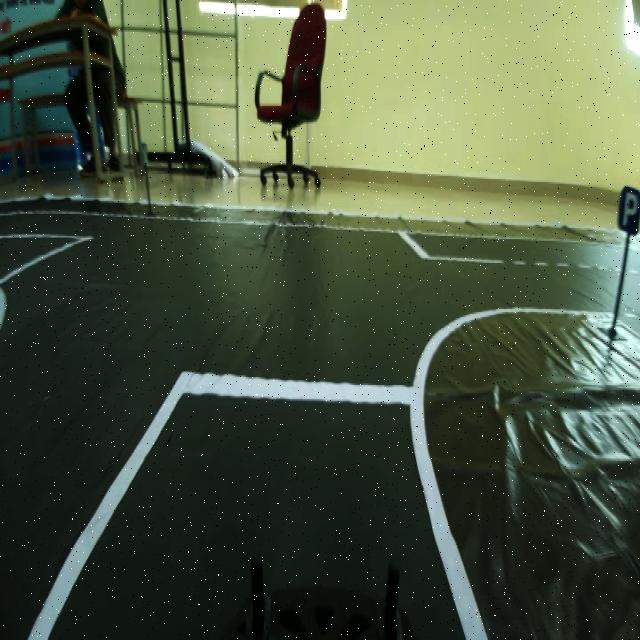parking: (616, 181, 638, 234)
